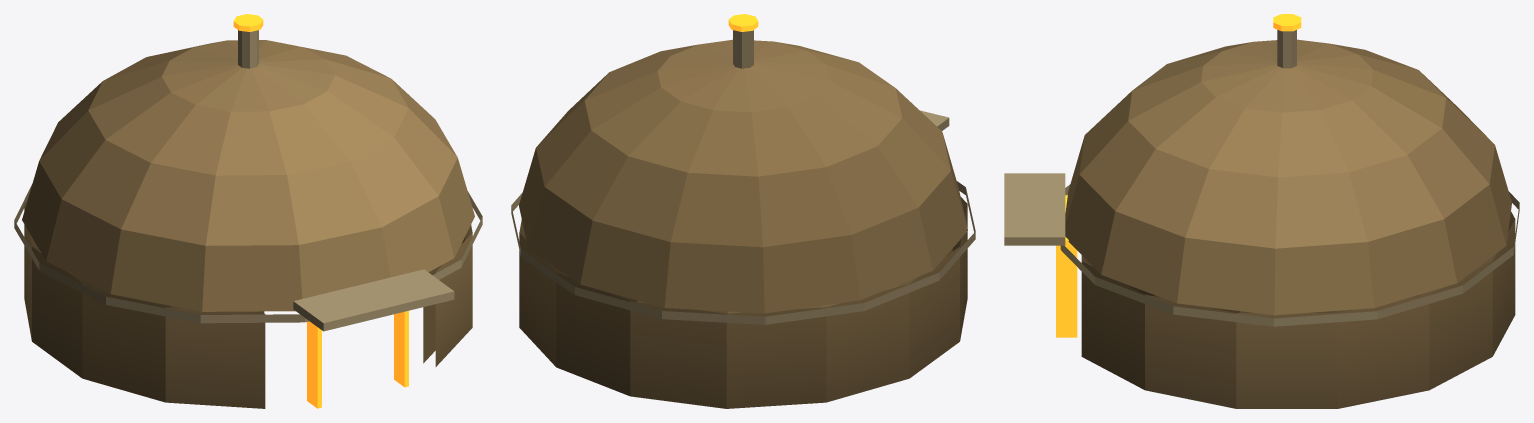
Rendered from shaddai_dist_desert_b1_v01.glb.
3 views of the same model, side by side, from view 1: azimuth 30°, elevation 25°; view 2: azimuth 150°, elevation 25°; view 3: azimuth 270°, elevation 25° (orthographic).
Parts seen in each view (by area): view 1: shaddai_dist_desert_b1; view 2: shaddai_dist_desert_b1; view 3: shaddai_dist_desert_b1.
Part boxes in pixels (left/top/right/bottom): shaddai_dist_desert_b1: left=14, top=14, right=482, bottom=408; shaddai_dist_desert_b1: left=511, top=14, right=975, bottom=408; shaddai_dist_desert_b1: left=1004, top=14, right=1519, bottom=408.
Size of the model in its own units: 15.48 by 10.7 by 16.94.
